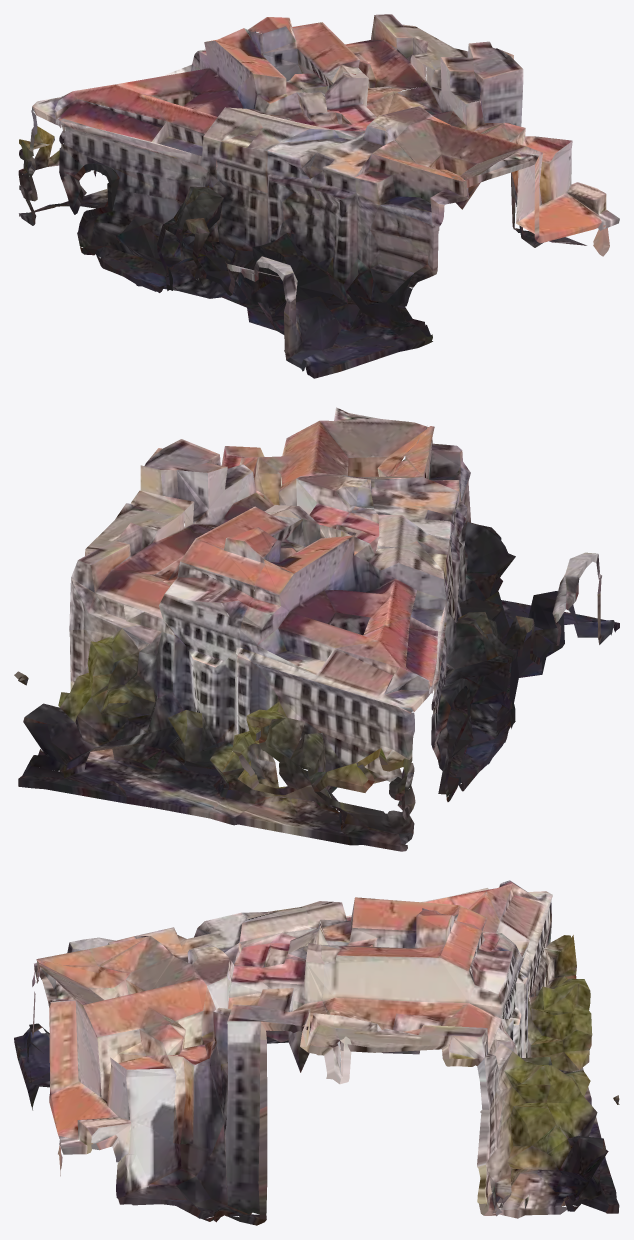
3 views of the same model, one above another, from view 1: azimuth 30°, elevation 25°; view 2: azimuth 150°, elevation 25°; view 3: azimuth 270°, elevation 25° (orthographic). The views are drawn at different scales.
Visible parts, largest first — view 1: Mesh_0; view 2: Mesh_0; view 3: Mesh_0.
Boxes of the visible parts, box(x1,y1,x2,y2) form: Mesh_0: box(18, 14, 619, 378); Mesh_0: box(14, 407, 619, 851); Mesh_0: box(14, 880, 619, 1225).
Bounding box in the file's own units: 67.49 × 34.15 × 82.49.
1 material, 1 textured.
